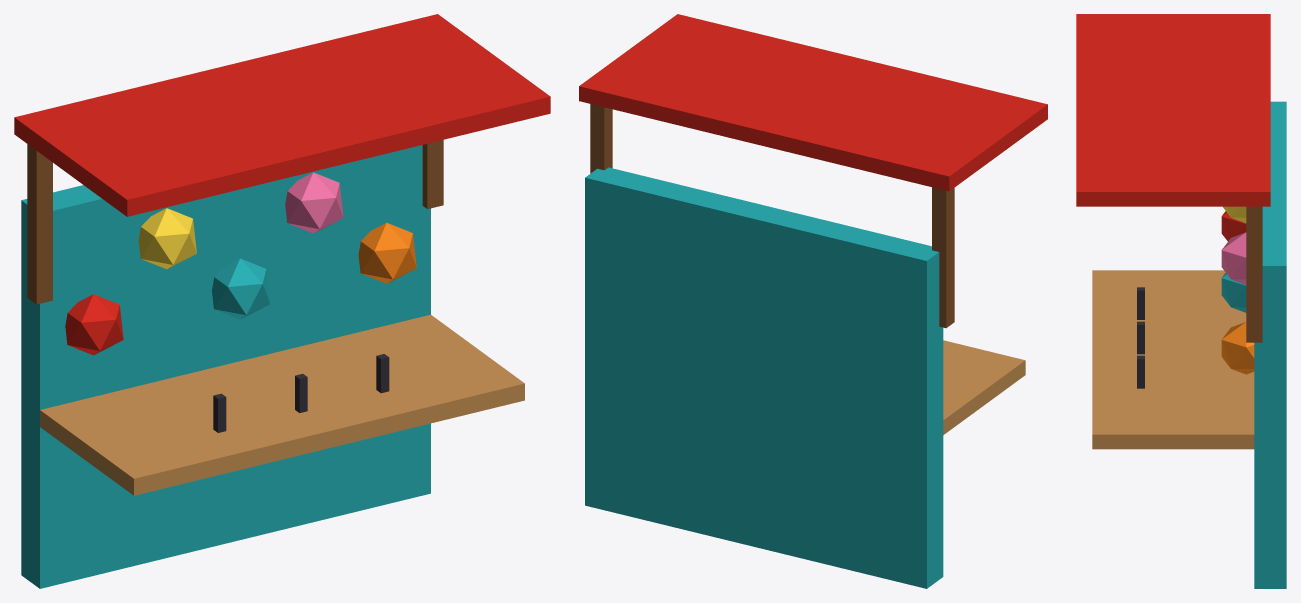
Rendered from balloon_dart_game.glb.
The picture shows the model from 3 angles, left to right: view 1: azimuth 30°, elevation 25°; view 2: azimuth 150°, elevation 25°; view 3: azimuth 270°, elevation 25°; orthographic projection. The views are drawn at different scales.
Parts seen in each view (by area): view 1: balloon_dart_game; view 2: balloon_dart_game; view 3: balloon_dart_game.
Boxes of the visible parts, x1=… form: balloon_dart_game: x1=14, y1=14, x2=550, y2=588; balloon_dart_game: x1=579, y1=14, x2=1047, y2=588; balloon_dart_game: x1=1076, y1=14, x2=1286, y2=588.
Bounding box in the file's own units: 2.6 × 2.75 × 1.3.
